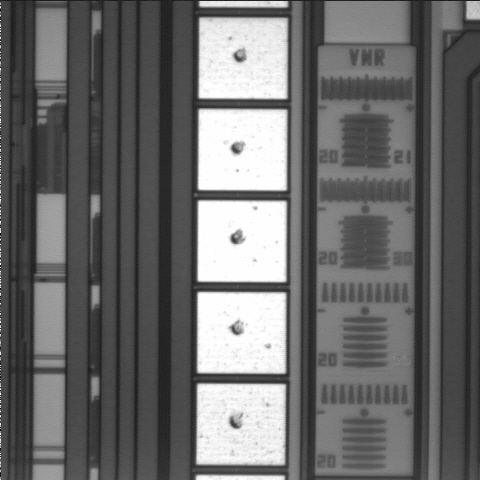pad: (198, 109, 287, 191), (198, 200, 287, 282), (197, 292, 286, 374), (196, 384, 286, 465), (199, 18, 287, 99)
